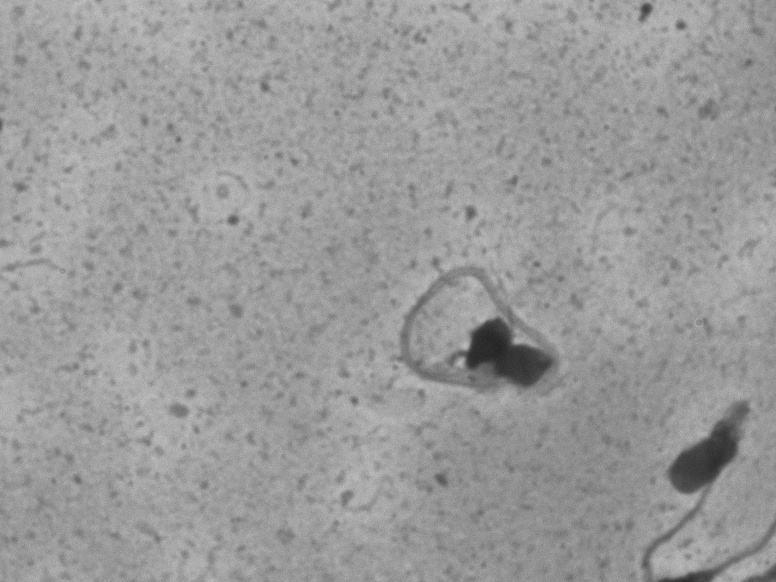Abnormal: (343, 222, 569, 446)
